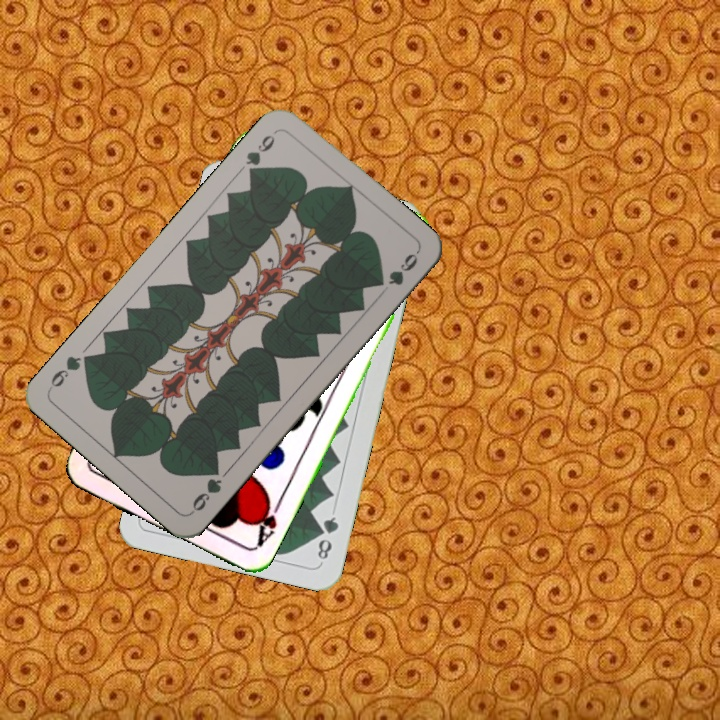G8: (313, 512, 342, 562)
G9: (187, 461, 225, 517), (241, 131, 278, 180)
HA: (251, 492, 285, 551)
